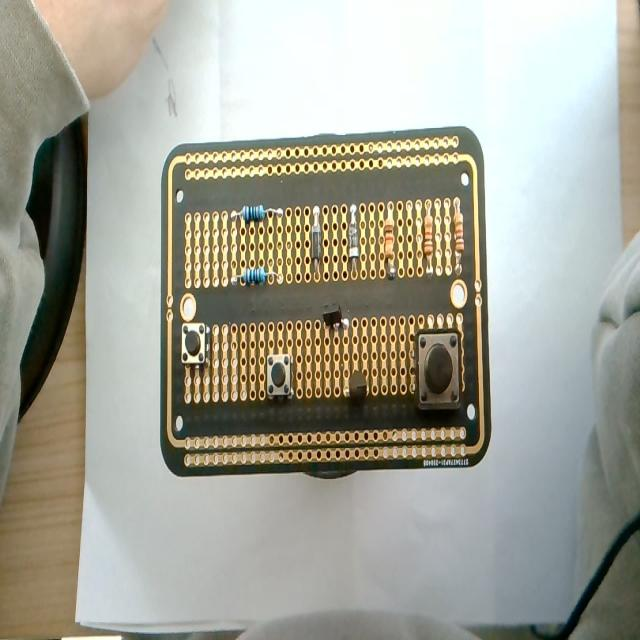diode: (311, 206, 322, 279), (348, 208, 360, 270)
resistor: (416, 199, 438, 275), (382, 204, 398, 284), (230, 269, 283, 288), (232, 204, 282, 223), (454, 204, 464, 274)
switch: (415, 329, 461, 409), (266, 353, 292, 399), (181, 322, 208, 364)
transistor: (322, 303, 350, 335), (344, 369, 368, 399)
